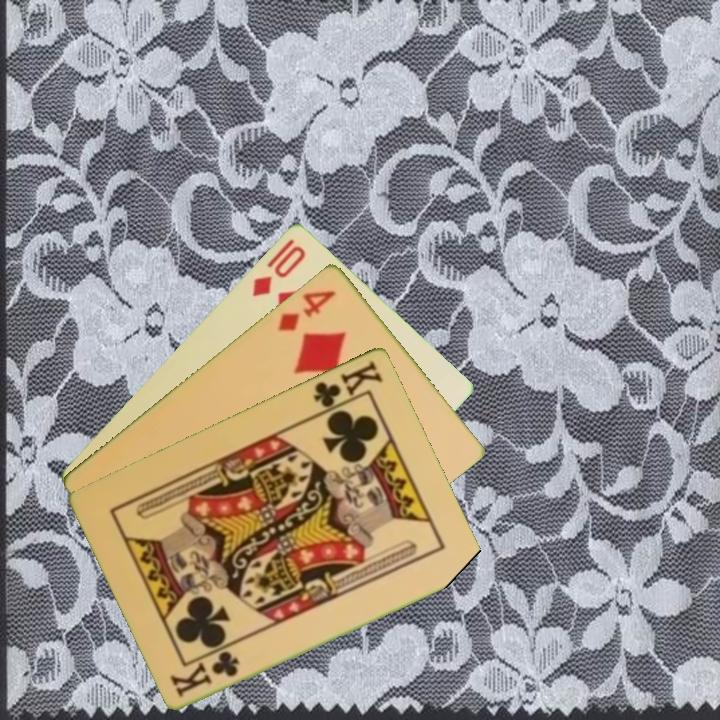10d: (248, 235, 309, 299)
4d: (274, 286, 339, 334)
Kc: (309, 356, 387, 417), (167, 647, 243, 700)
